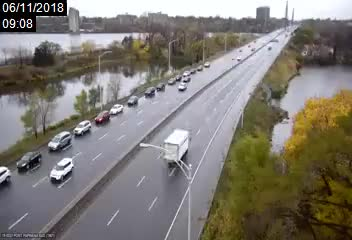personal_car: (50, 158, 74, 183), (48, 130, 72, 151), (17, 151, 43, 170), (74, 120, 93, 135), (1, 163, 12, 187), (95, 111, 110, 125), (108, 103, 124, 115), (126, 95, 139, 106), (144, 86, 156, 96), (155, 82, 165, 91), (167, 76, 175, 86), (178, 82, 186, 90), (196, 65, 203, 71), (183, 70, 189, 77), (176, 74, 181, 82), (189, 68, 195, 73), (204, 62, 209, 66)
truck: (163, 129, 191, 166)
